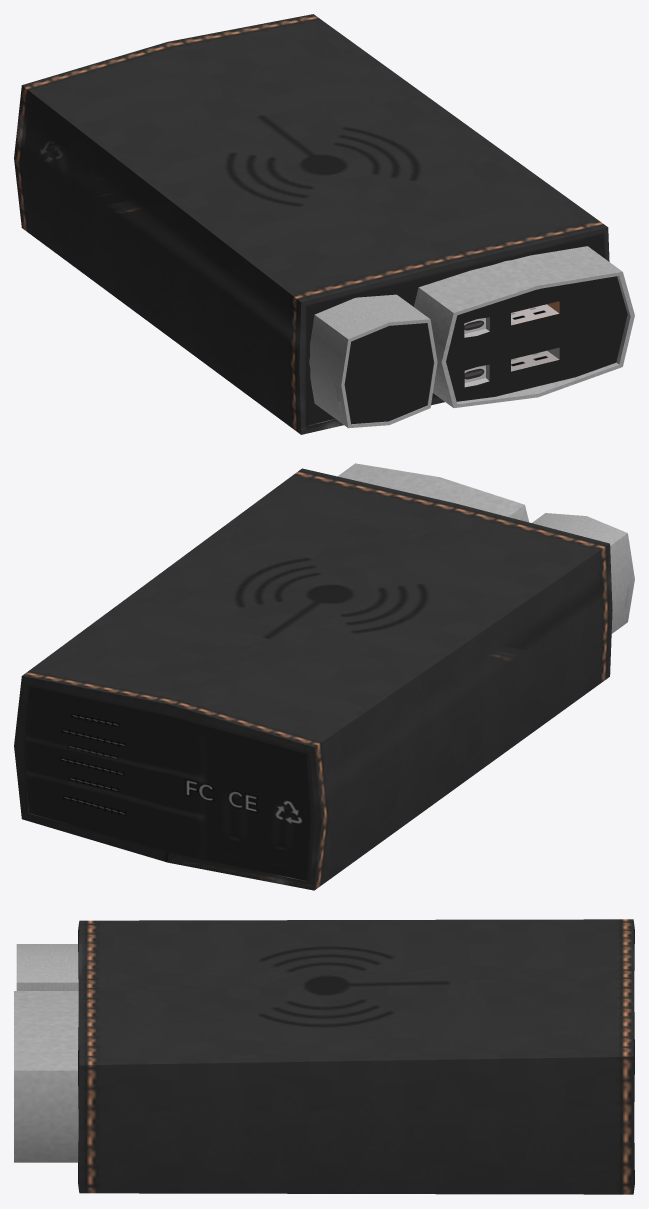
3 views of the same model, one above another, from view 1: azimuth 30°, elevation 25°; view 2: azimuth 150°, elevation 25°; view 3: azimuth 270°, elevation 25° (orthographic). The views are drawn at different scales.
Parts seen in each view (by area): view 1: USB Drive_0; view 2: USB Drive_0; view 3: USB Drive_0.
Boxes of the visible parts, left/top/right/bottom form: USB Drive_0: left=14, top=14, right=634, bottom=434; USB Drive_0: left=14, top=463, right=634, bottom=890; USB Drive_0: left=14, top=919, right=634, bottom=1194.
Bounding box in the file's own units: 4.26 × 2.06 × 7.62.
1 material, 1 textured.
